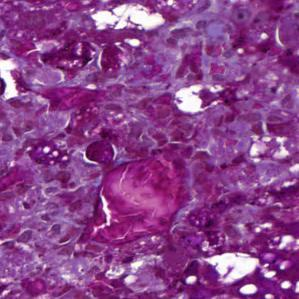ballooning: (85, 2, 169, 34), (172, 82, 231, 116)
